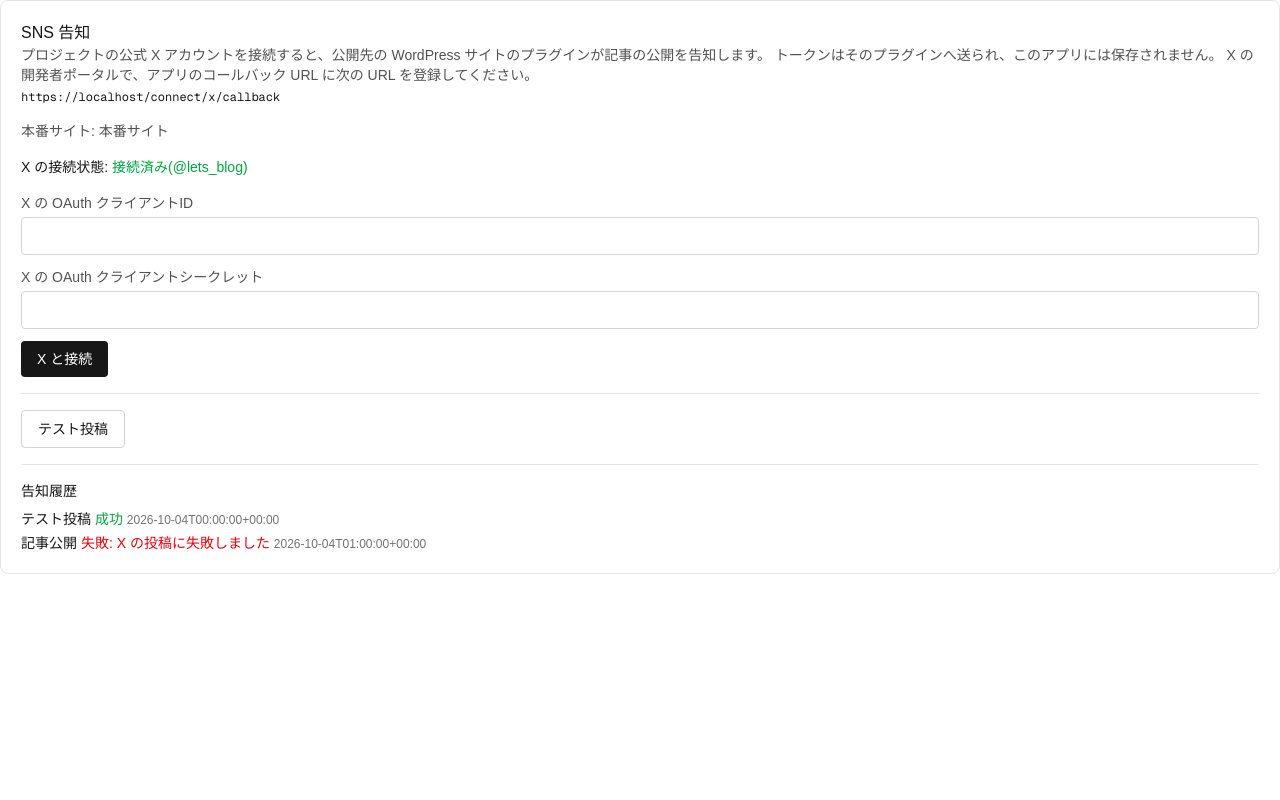
Test case: ProjectSnsXSection › 入力が空のまま押すと、バックエンドへ送らず入力を求める
Click the button "X と接続" at x=65, y=359, box [21,341,108,377]
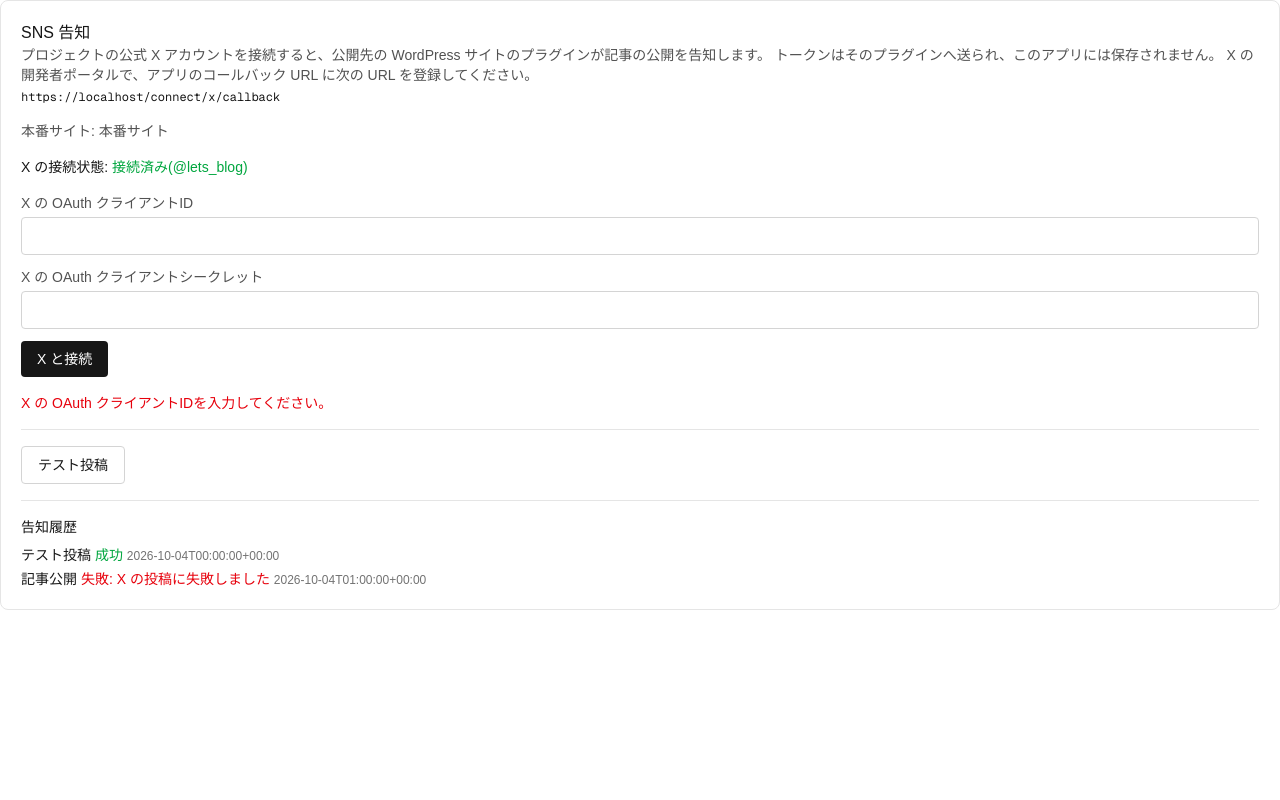
Check: the text "X の OAuth クライアントIDを入力してください。" is shown, box [21,395,332,411]
